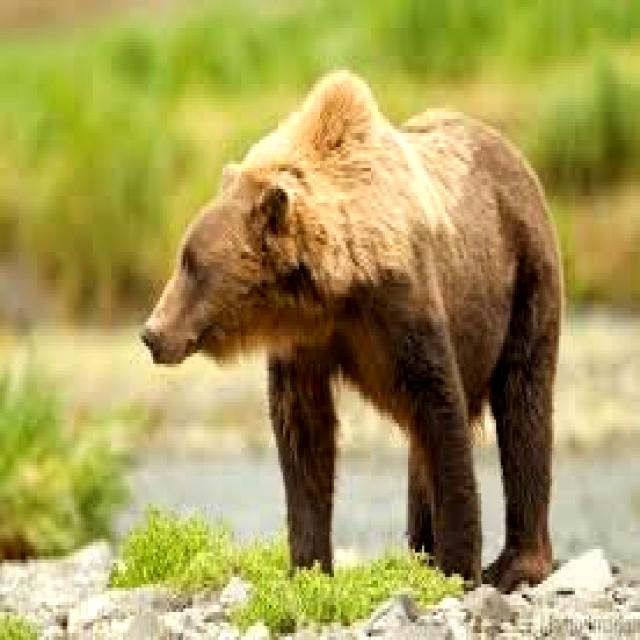bear: (117, 34, 528, 579)
